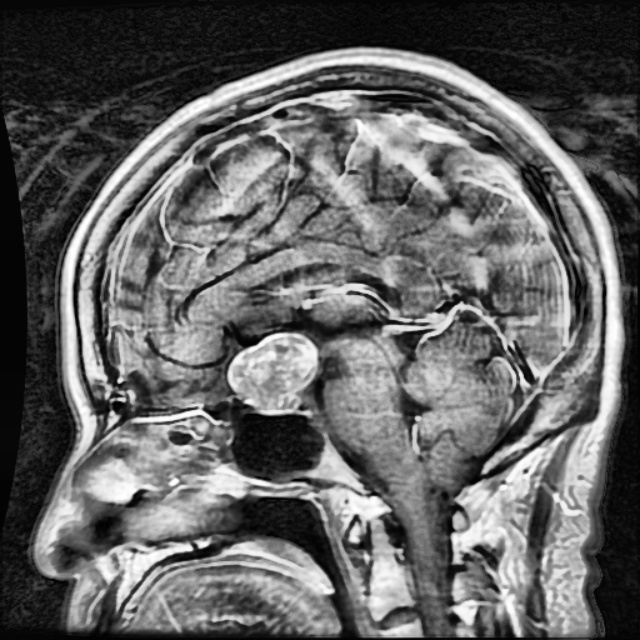Pituitary: (227, 329, 319, 415)
